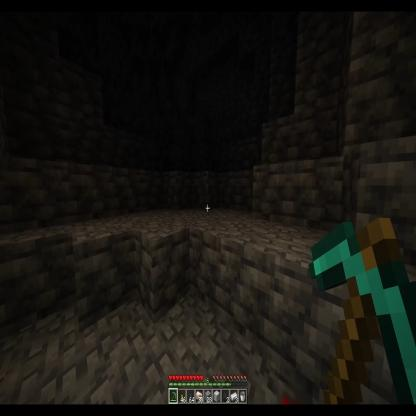redstone ore: (273, 382, 312, 404)
